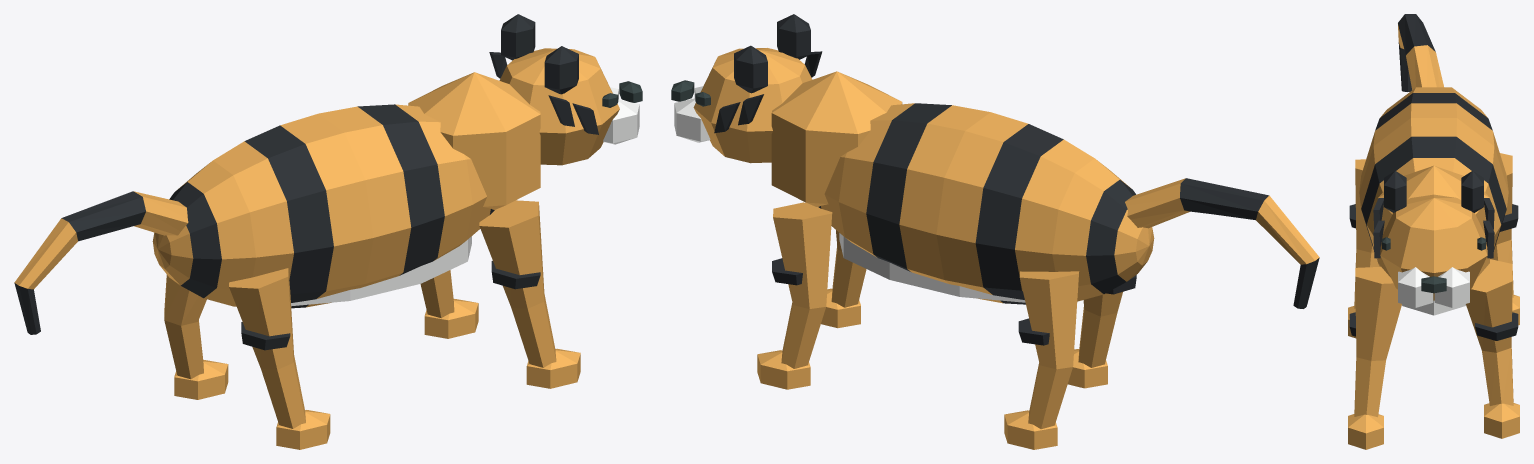
File: modern-tiger.28ab98ca4bc5.glb
The picture shows the model from 3 angles, left to right: view 1: azimuth 30°, elevation 25°; view 2: azimuth 150°, elevation 25°; view 3: azimuth 270°, elevation 25°; orthographic projection. The views are drawn at different scales.
Parts seen in each view (by area): view 1: modern-tiger; view 2: modern-tiger; view 3: modern-tiger.
Boxes of the visible parts, bbox=[...] form: modern-tiger: bbox=[14, 14, 642, 449]; modern-tiger: bbox=[671, 14, 1319, 449]; modern-tiger: bbox=[1348, 14, 1519, 449].
Size of the model in its own units: 1 by 0.4843 by 0.2634.
